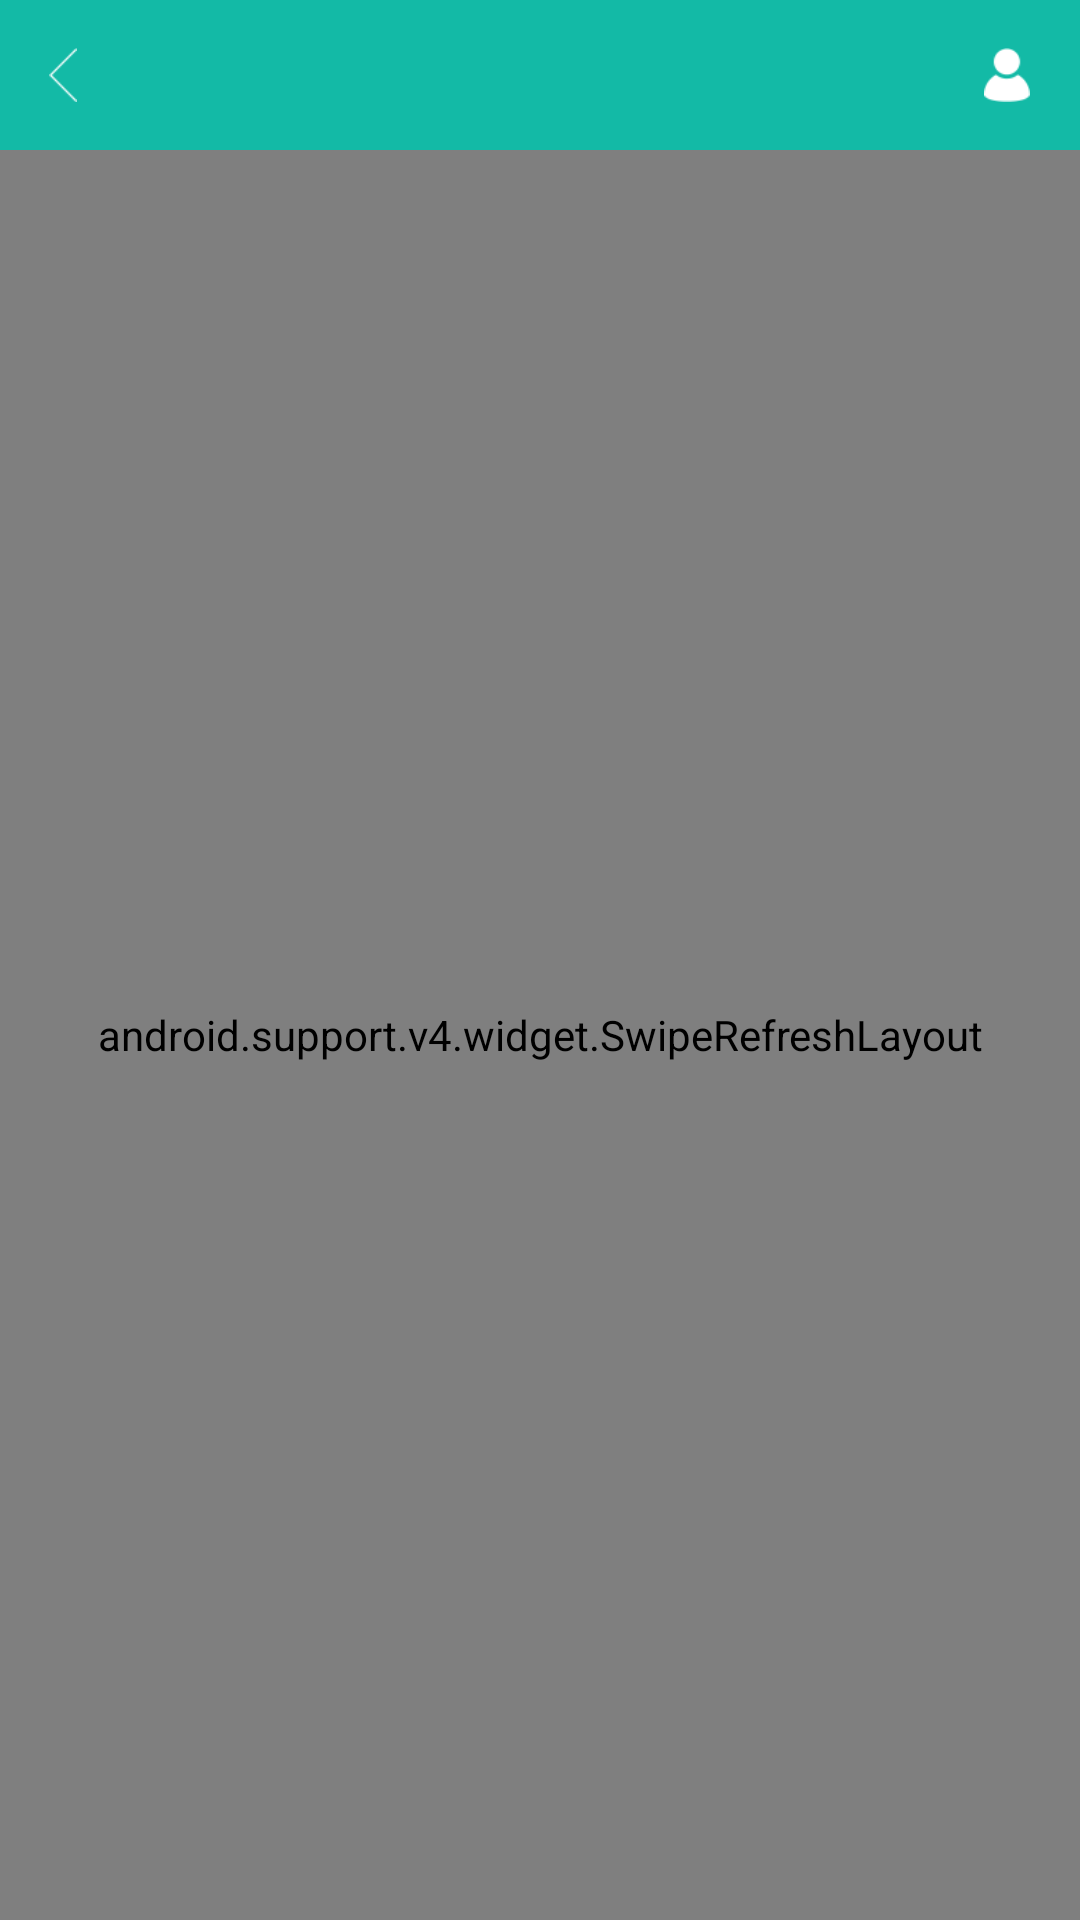

Icon bounding boxes for this 1080px x 1920px phone screenshot, format detection(x1, y1, x2, y2):
back: detection(49, 48, 77, 102)
user: detection(984, 48, 1030, 102)
